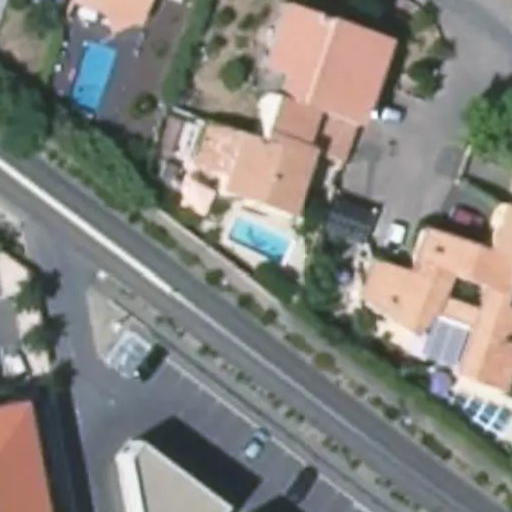pool: (222, 211, 298, 268), (73, 41, 114, 124)
